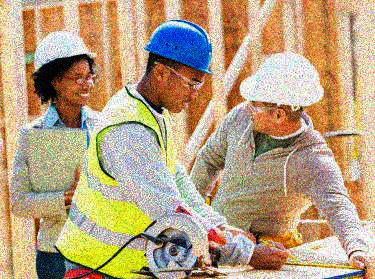helmet: (141, 19, 222, 113), (238, 50, 325, 134), (30, 30, 101, 109)
